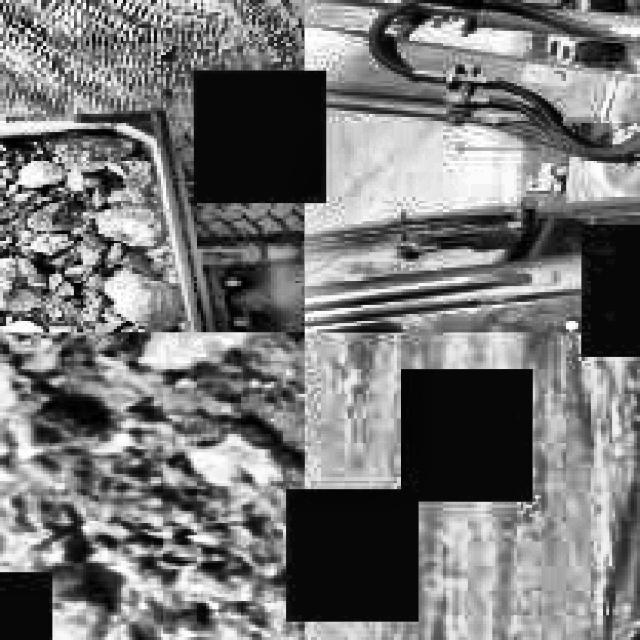dump_truck: (0, 98, 302, 330)
excavator: (304, 0, 640, 329)
